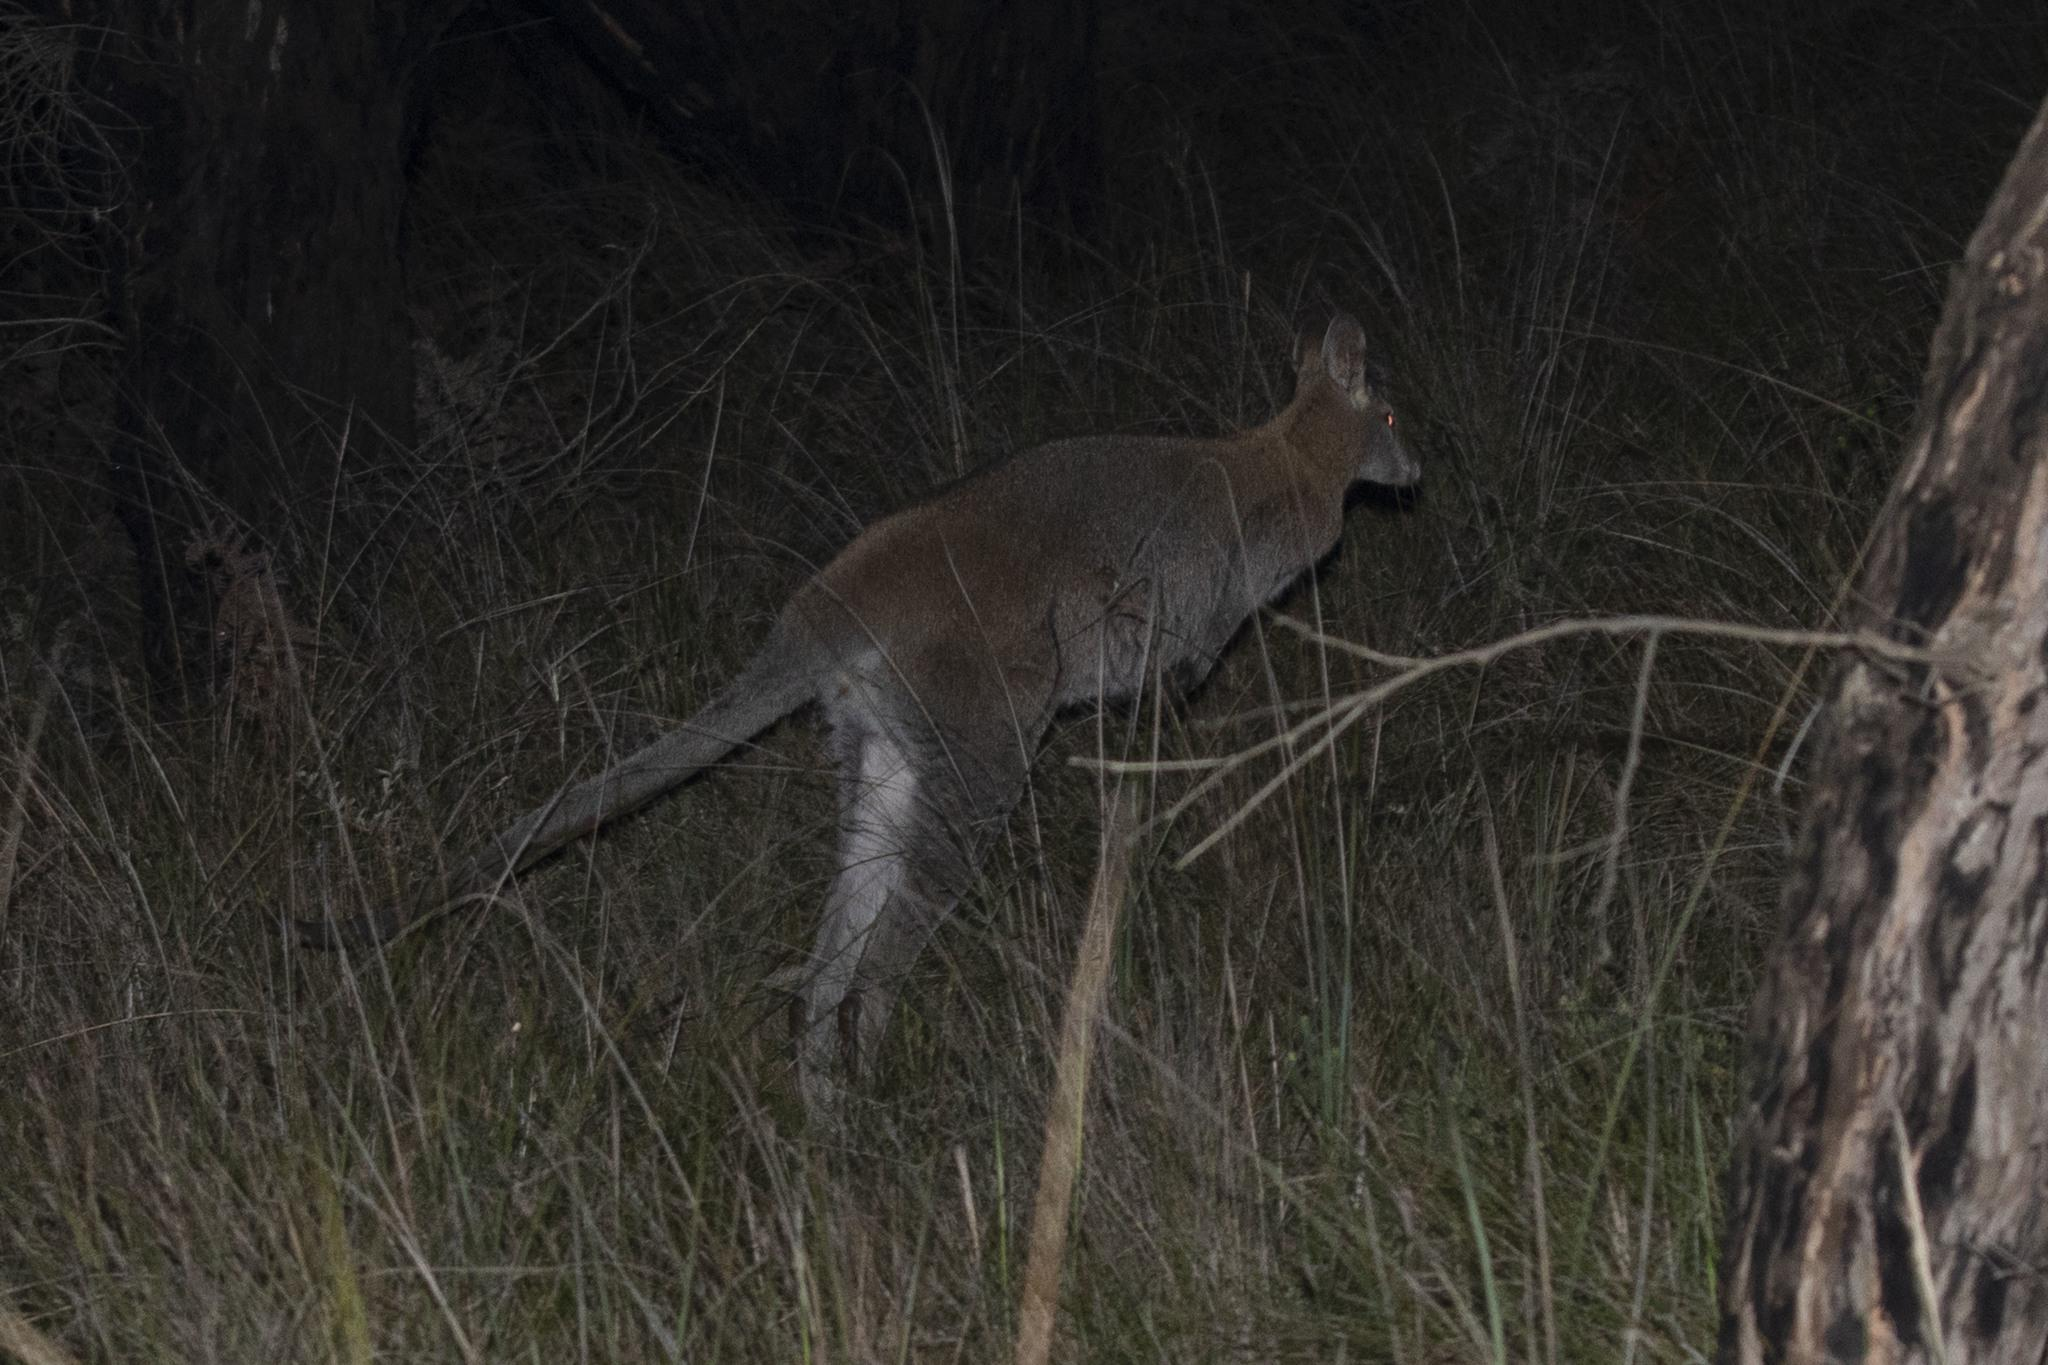Red-necked wallaby: (250, 303, 1433, 1185)
